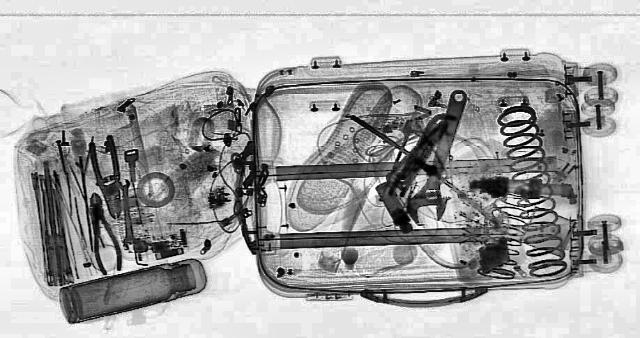Pliers: (85, 135, 128, 219), (82, 193, 125, 275)
Wrench: (400, 88, 480, 224), (113, 178, 137, 244)
